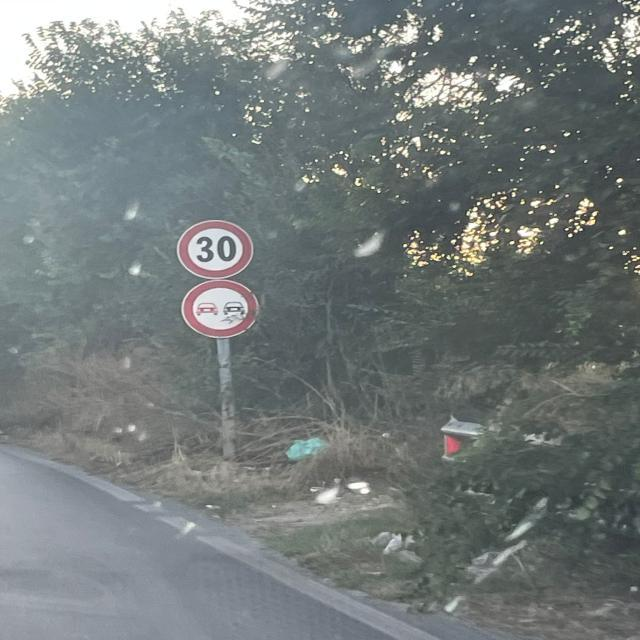forb_overtake: (180, 280, 262, 340)
forb_speed_over_30: (176, 219, 256, 281)
